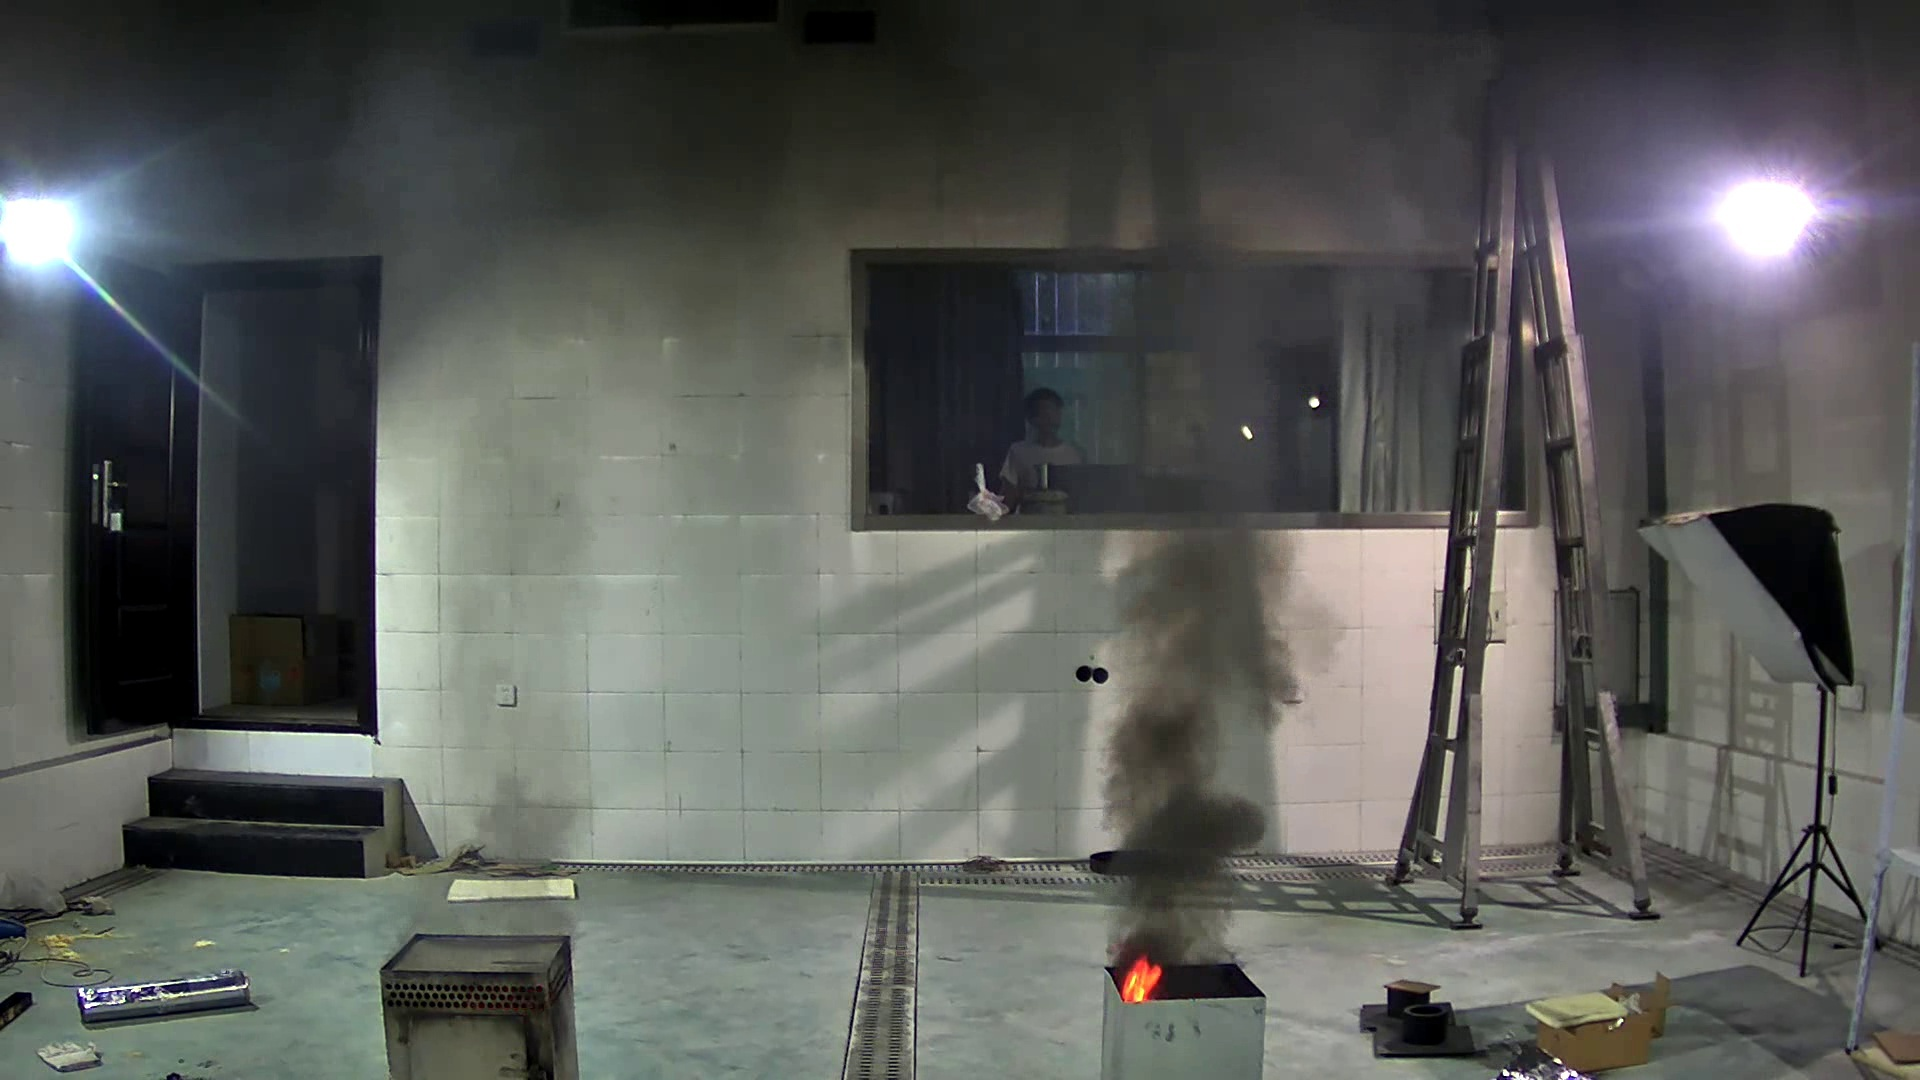smoke: (1095, 512, 1338, 953), (438, 451, 611, 895)
